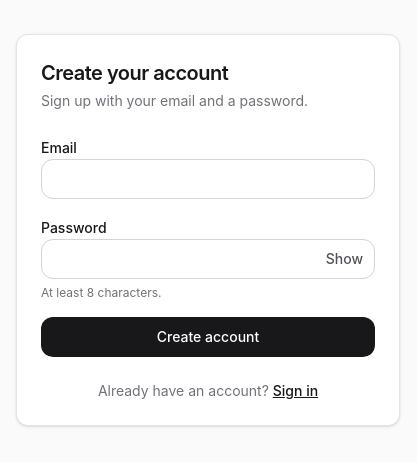
Scenario: SignUpPage › still shows the form when it can't learn whether sign-ups are open
Type "ada@example.com" into the field labelled "Email" at (208, 179), box [41,159,375,199]
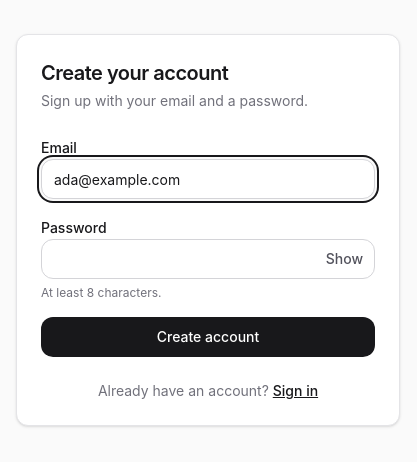
Type "long-enough-pw" into the password field labelled "Password" at (208, 259), box [41,239,375,279]
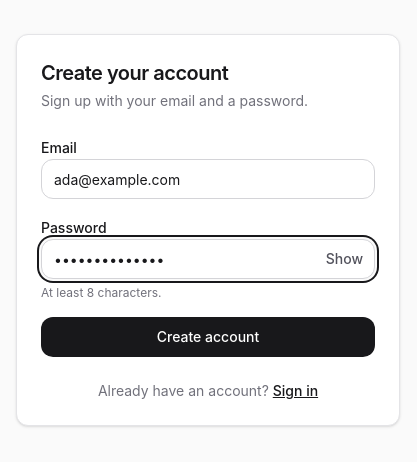
Click the button "Create account" at (208, 337), box [41,317,375,357]
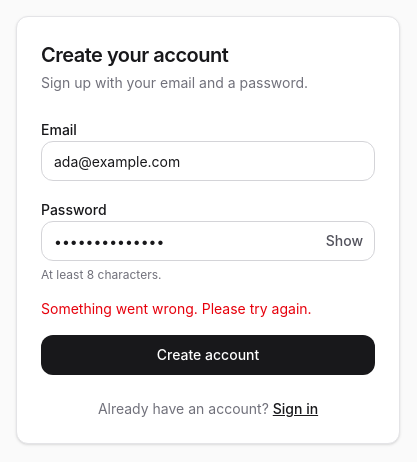
expect the button "Create account" is enabled: met, box [41,335,375,375]
expect the message reads "Something went wrong. Please try again.": met, box [41,300,312,317]
